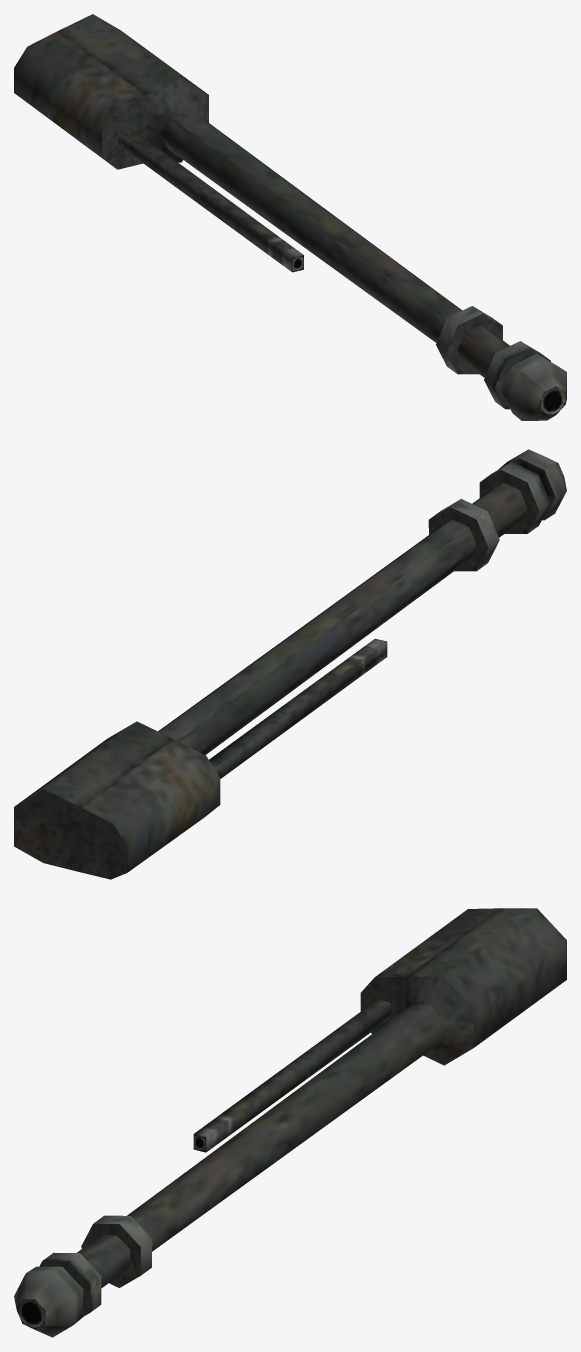
File: bwing_weapon2l_s01_l0.fbx
3 views of the same model, one above another, from view 1: azimuth 30°, elevation 25°; view 2: azimuth 150°, elevation 25°; view 3: azimuth 330°, elevation 25° (orthographic). The views are drawn at different scales.
Visible parts, largest first — view 1: mesh_node; view 2: mesh_node; view 3: mesh_node.
Part boxes in pixels (<box>): mesh_node: <box>14,14,566,420</box>; mesh_node: <box>14,449,566,879</box>; mesh_node: <box>14,908,566,1337</box>.
Size of the model in its own units: 0.3637 by 0.2731 by 2.76.
